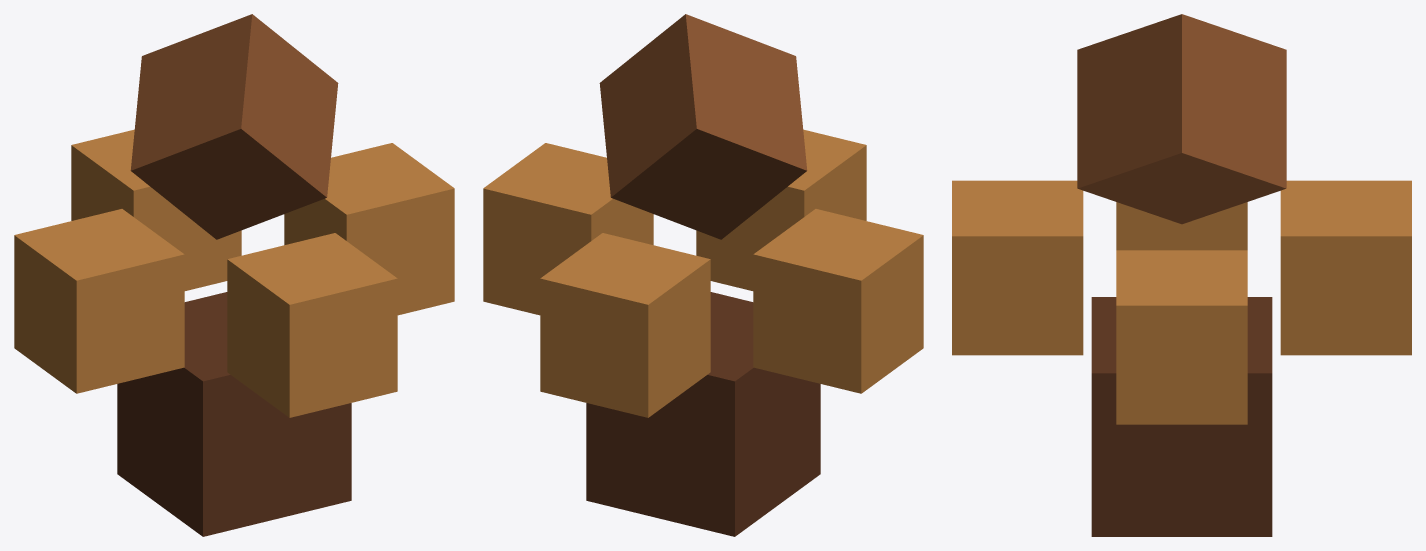
File: Cubic Structure.fbx
3 renders of one model, left to right at view 1: azimuth 30°, elevation 25°; view 2: azimuth 150°, elevation 25°; view 3: azimuth 270°, elevation 25°, orthographic. The views are drawn at different scales.
Visible parts, largest first — view 1: main sredina, top, bottom; view 2: main sredina, top, bottom; view 3: main sredina, top, bottom.
Part boxes in pixels (x1,y1,x2,y2): main sredina: (14,129,454,417); top: (130,14,338,239); bottom: (117,292,351,536); main sredina: (483,129,923,417); top: (599,14,807,239); bottom: (586,292,820,536); main sredina: (952,180,1411,424); top: (1077,14,1286,224); bottom: (1091,297,1272,536).
Bounding box in the file's own units: 560 × 664 × 560.
